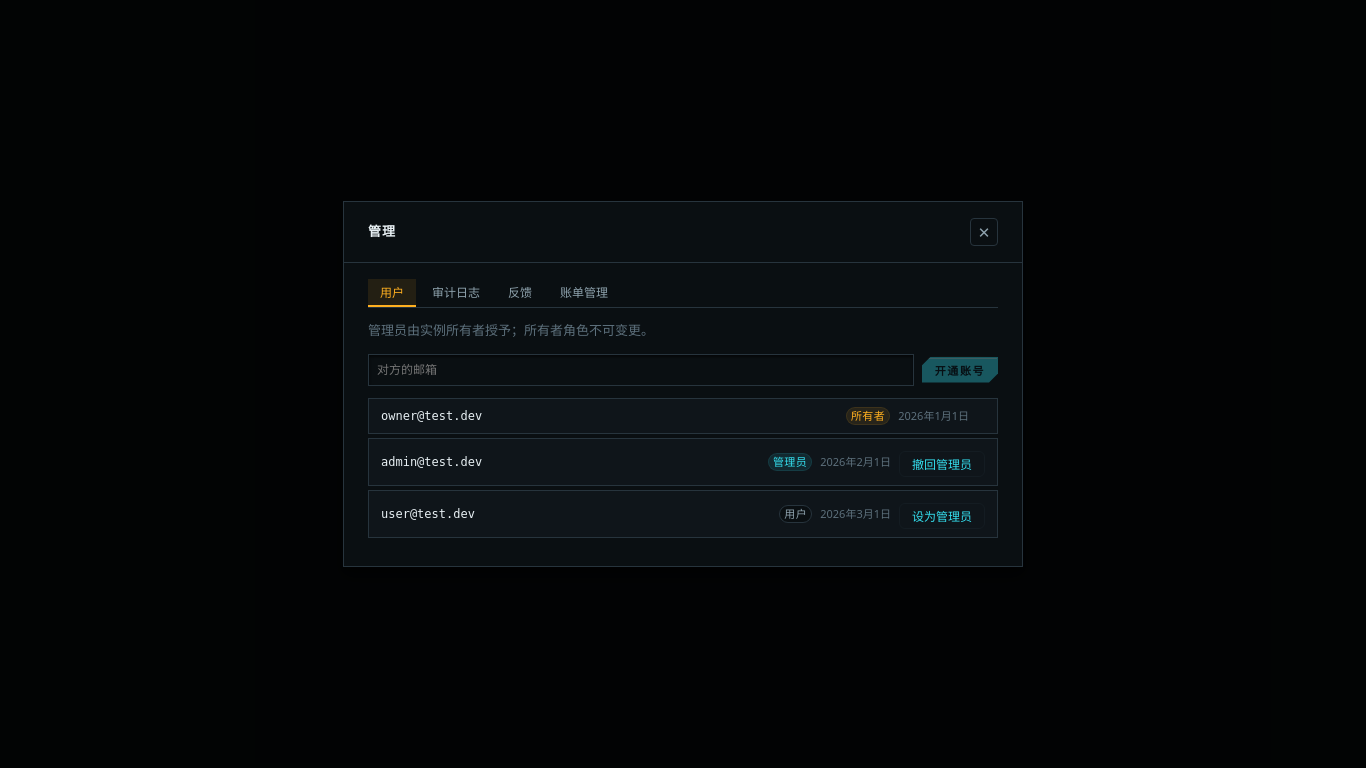
Scenario: AdminPanel › owner 视图 › 开账号被拒时说清原因，不留下半个口令块
This screenshot has width=1366, height=768.
Expected: the text "owner@test.dev" is shown, 381,409 -> 482,423
Type "owner@test.dev" into the field with placeholder "对方的邮箱". click: (641, 370)
box: 368,354 -> 914,386
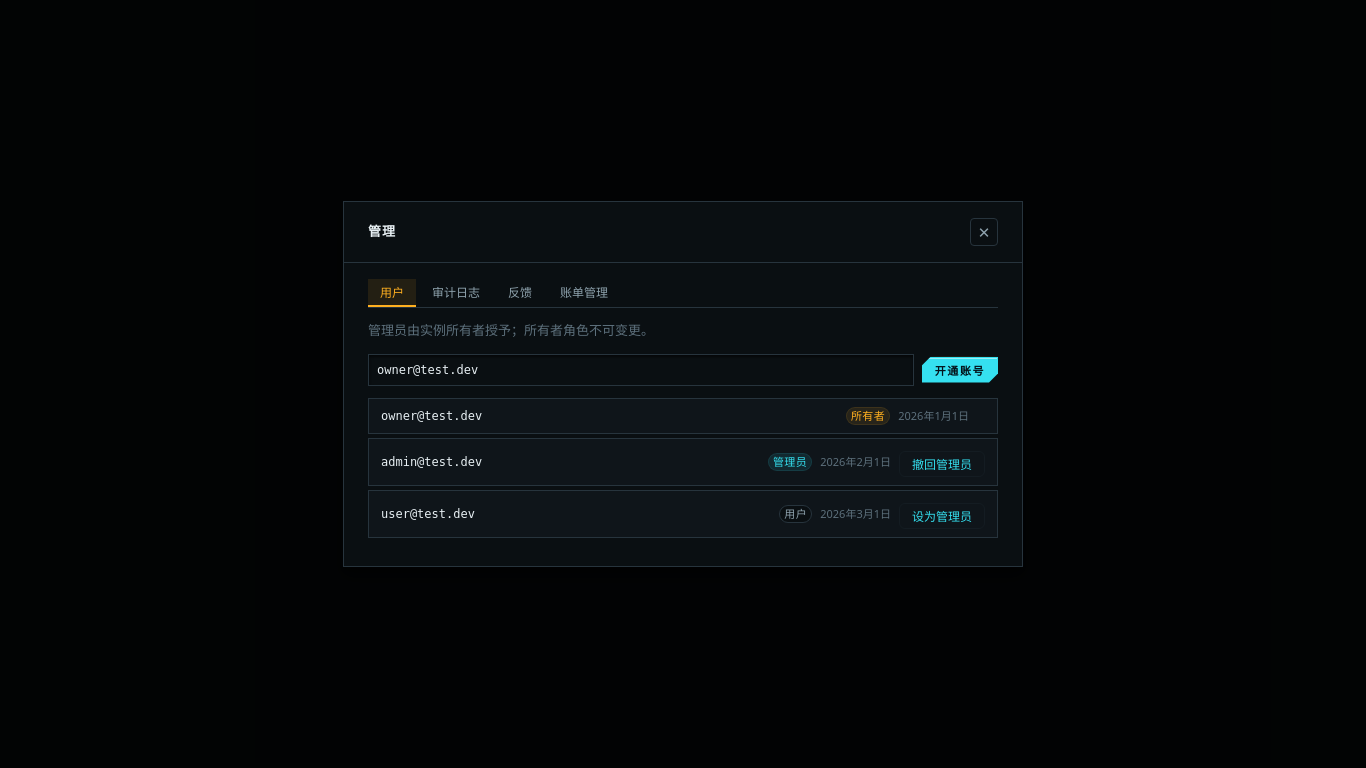
Click the button "开通账号". click: (960, 370)
box: 922,356 -> 998,382
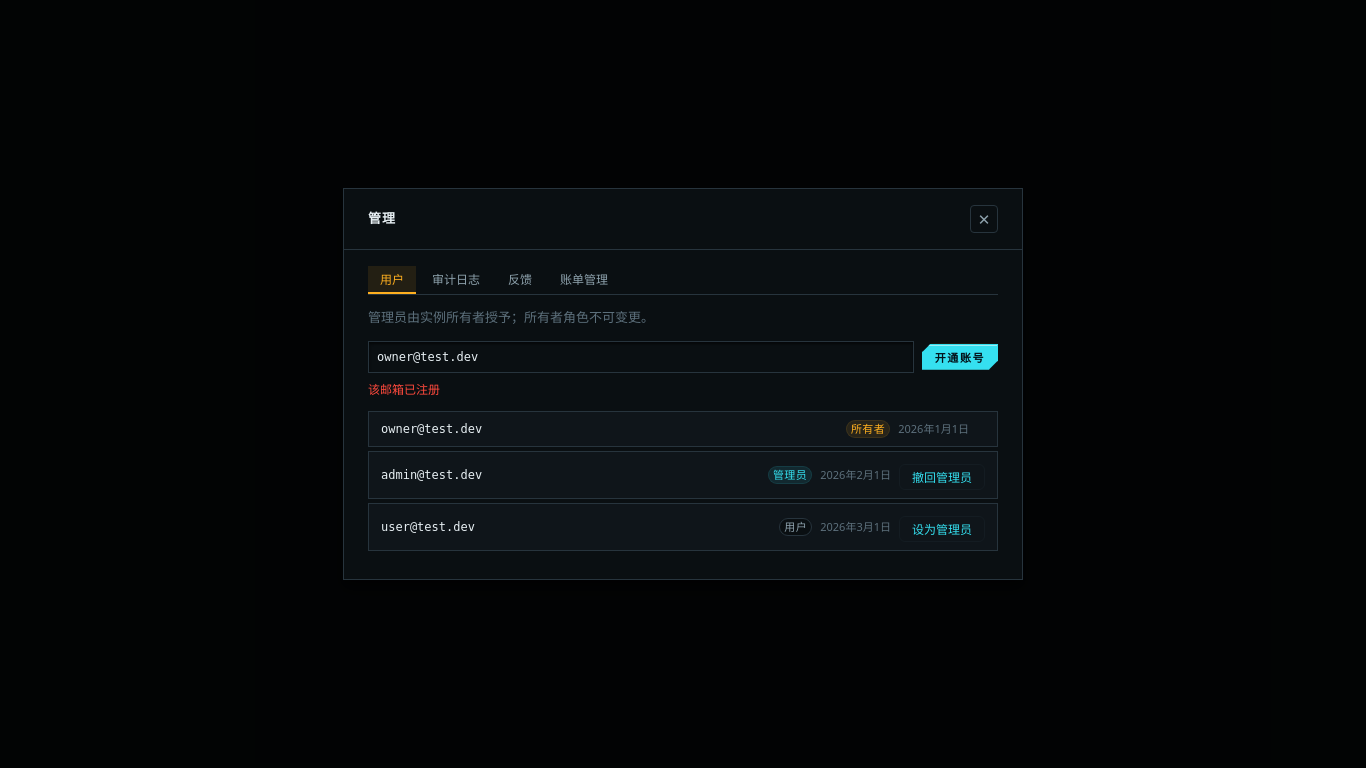
Result: the text "该邮箱已注册" is shown at 368,380 -> 440,398
